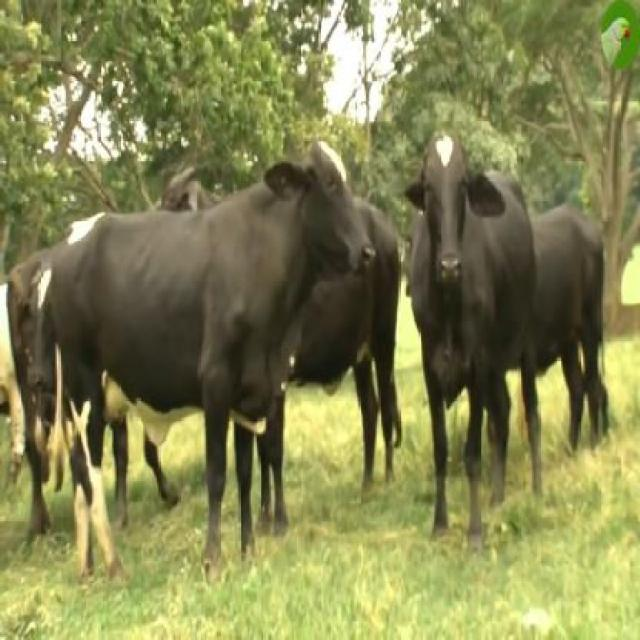Cow: (51, 140, 377, 585), (408, 129, 543, 554)
